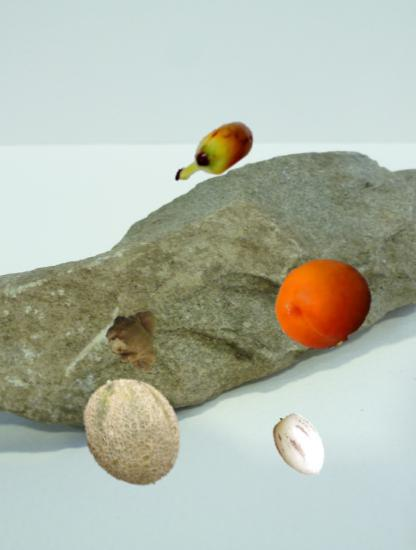Apricot: (274, 254, 373, 353)
Banana: (167, 109, 260, 202)
Cantaloupe: (75, 375, 189, 489)
Ginger: (107, 309, 171, 373)
Pepino: (266, 412, 334, 480)
